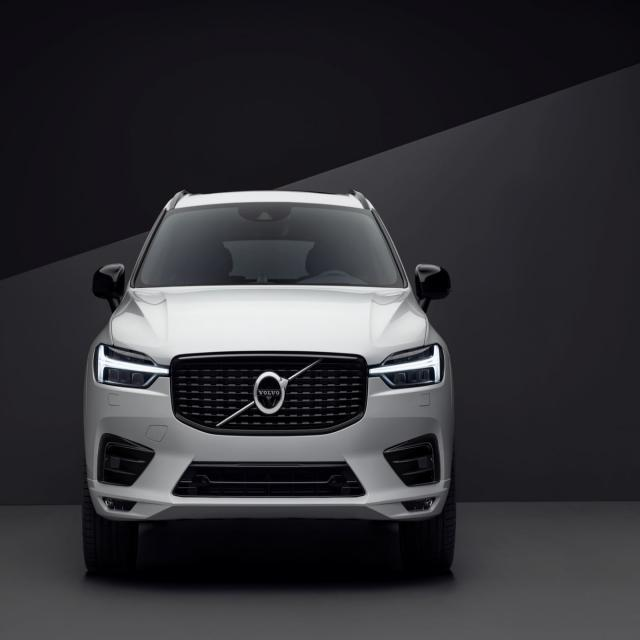yolov7-seg-car: (81, 189, 456, 579)
